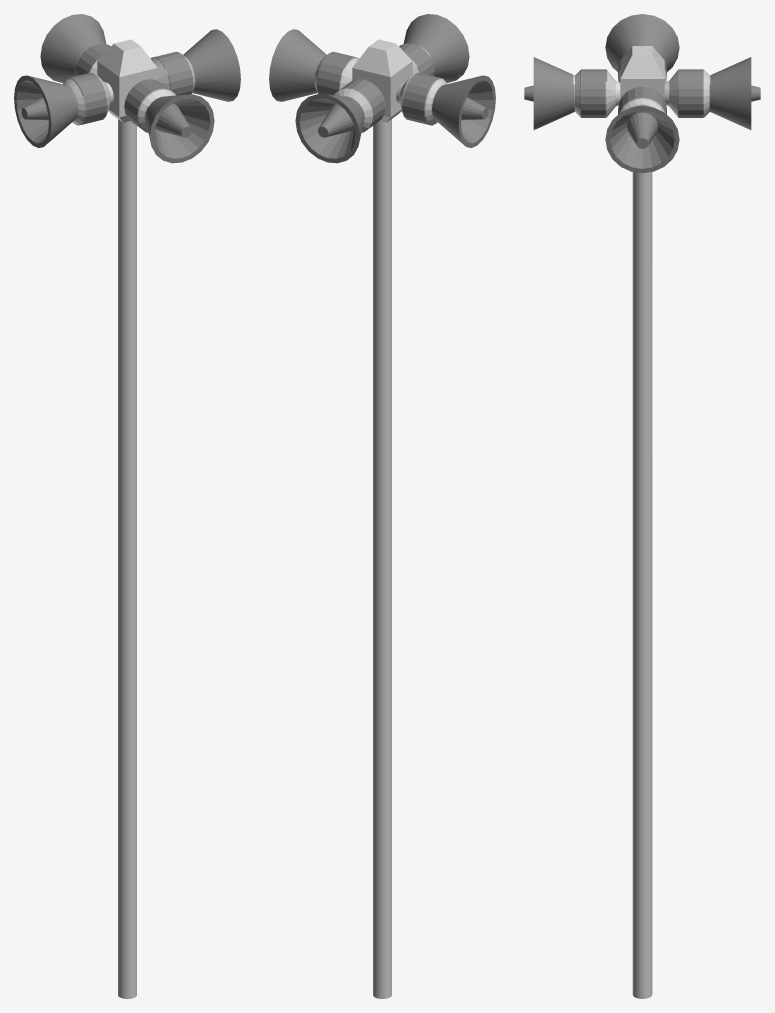
Rendered from SpeakerTower.fbx.
3 renders of one model, left to right at view 1: azimuth 30°, elevation 25°; view 2: azimuth 150°, elevation 25°; view 3: azimuth 270°, elevation 25°, orthographic.
Parts seen in each view (by area): view 1: SpeakerTower_Body; view 2: SpeakerTower_Body; view 3: SpeakerTower_Body.
Part boxes in pixels (x1,y1,x2,y2): SpeakerTower_Body: (14,14,240,998); SpeakerTower_Body: (269,14,495,998); SpeakerTower_Body: (524,14,760,998).
Bounding box in the file's own units: 18.29 × 80.68 × 18.29.
